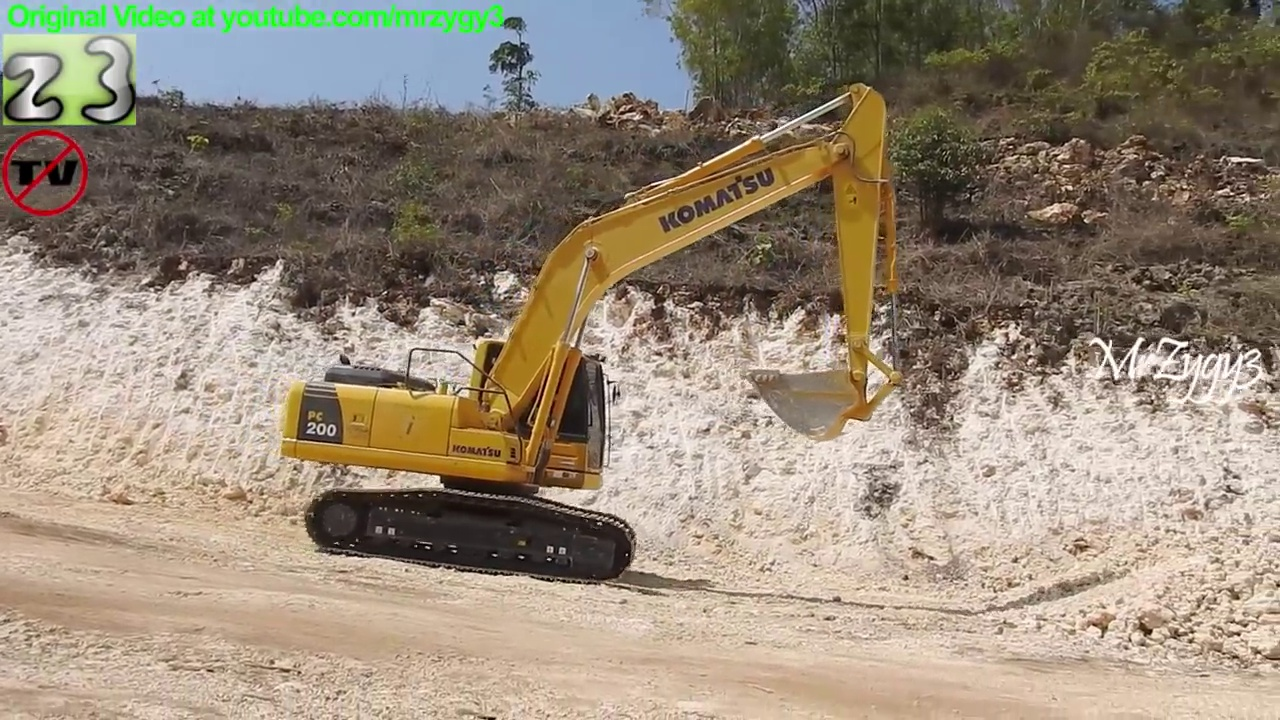excavator: (271, 78, 913, 589)
